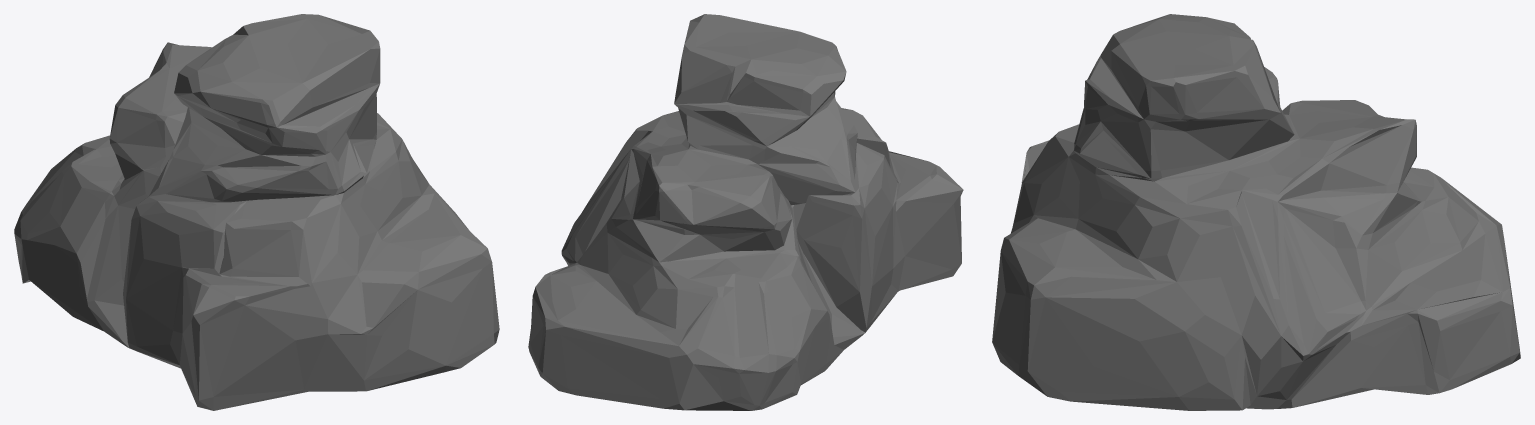
The model's file is Rock_023.fbx.
3 renders of one model, left to right at view 1: azimuth 30°, elevation 25°; view 2: azimuth 150°, elevation 25°; view 3: azimuth 270°, elevation 25°, orthographic. The views are drawn at different scales.
Parts seen in each view (by area): view 1: Rock_023; view 2: Rock_023; view 3: Rock_023.
Boxes of the visible parts, x1,y1,x2,y2 form: Rock_023: (14, 14, 499, 410); Rock_023: (528, 14, 963, 410); Rock_023: (992, 14, 1520, 410).
Bounding box in the file's own units: 393 × 532 × 327.
Materials: 1 (1 with a texture image).
